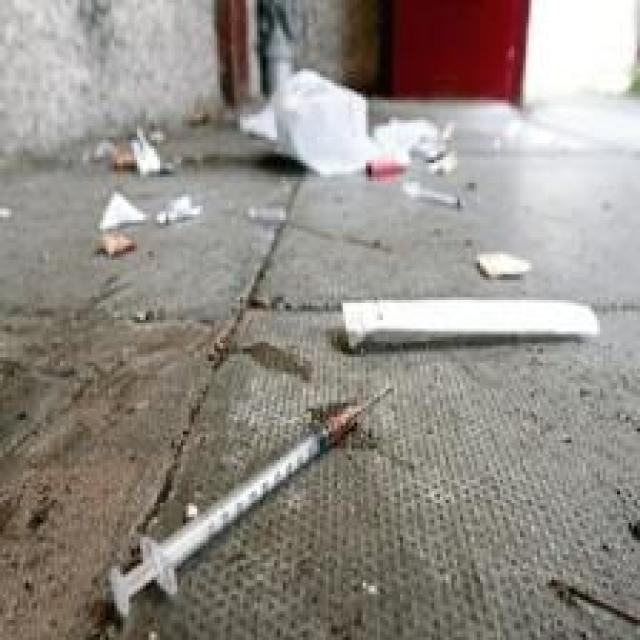syringe: (95, 364, 420, 603), (369, 151, 473, 230)
